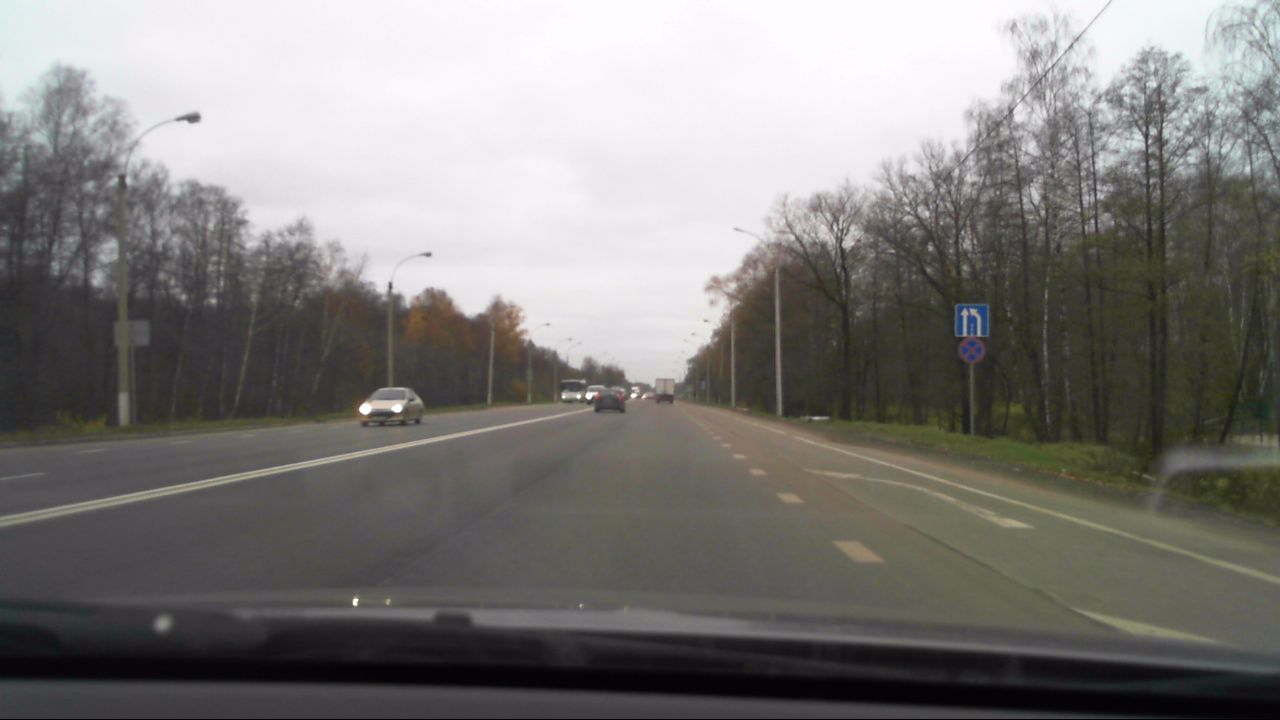No Parking: (957, 338, 988, 365)
